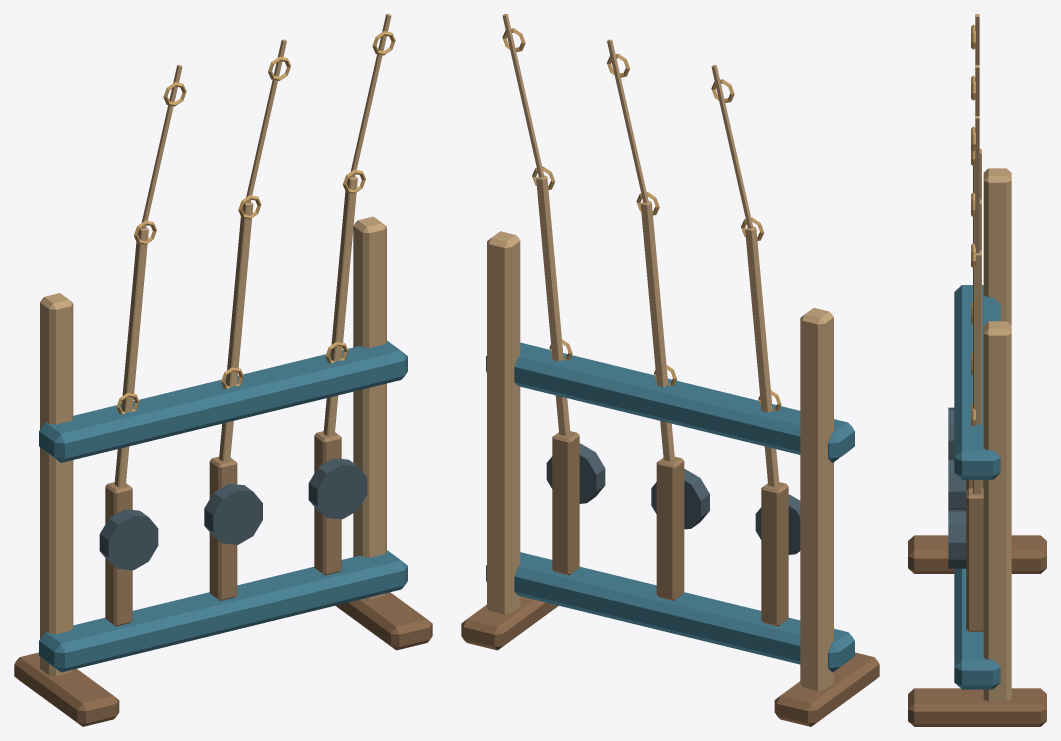
Rendered from 06_Fishing_Rod_Rack.glb.
The picture shows the model from 3 angles, left to right: view 1: azimuth 30°, elevation 25°; view 2: azimuth 150°, elevation 25°; view 3: azimuth 270°, elevation 25°; orthographic projection.
Parts seen in each view (by area): view 1: 06_Fishing_Rod_Rack__Body; view 2: 06_Fishing_Rod_Rack__Body; view 3: 06_Fishing_Rod_Rack__Body.
Boxes of the visible parts, bbox=[...] form: 06_Fishing_Rod_Rack__Body: bbox=[14, 14, 432, 726]; 06_Fishing_Rod_Rack__Body: bbox=[461, 14, 879, 726]; 06_Fishing_Rod_Rack__Body: bbox=[908, 14, 1046, 726].
Size of the model in its own units: 2.04 by 3.33 by 0.69.
1 material, 1 textured.
